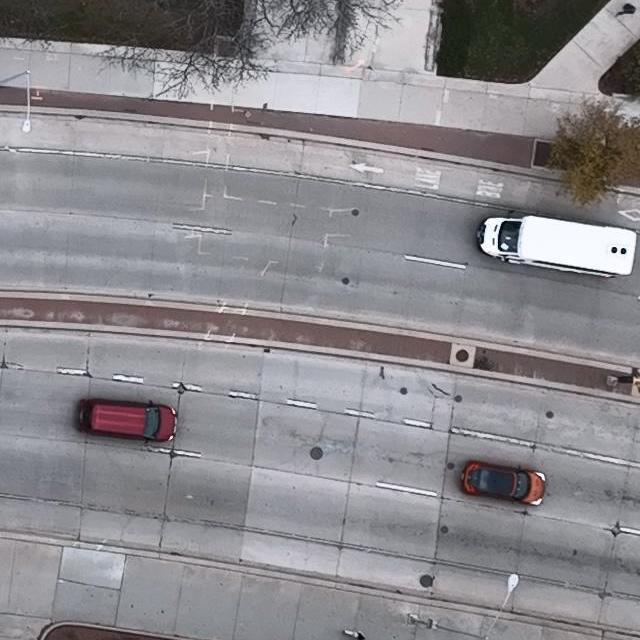car: (476, 215, 637, 279), (76, 399, 178, 443), (461, 462, 546, 505)
